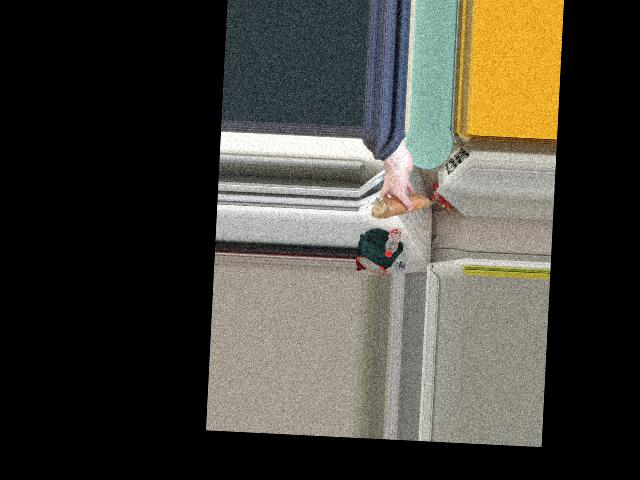sweet_potato: (371, 195, 435, 217)
